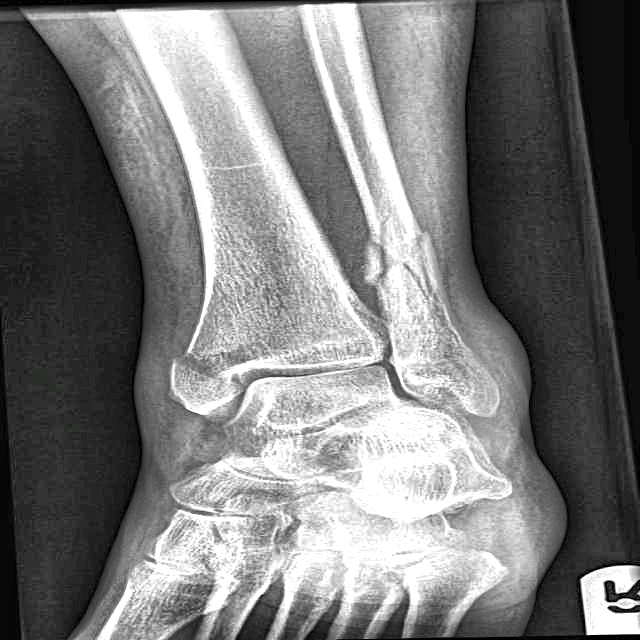Comminuted: (341, 215, 464, 298)
Greenstick: (153, 338, 263, 397)
